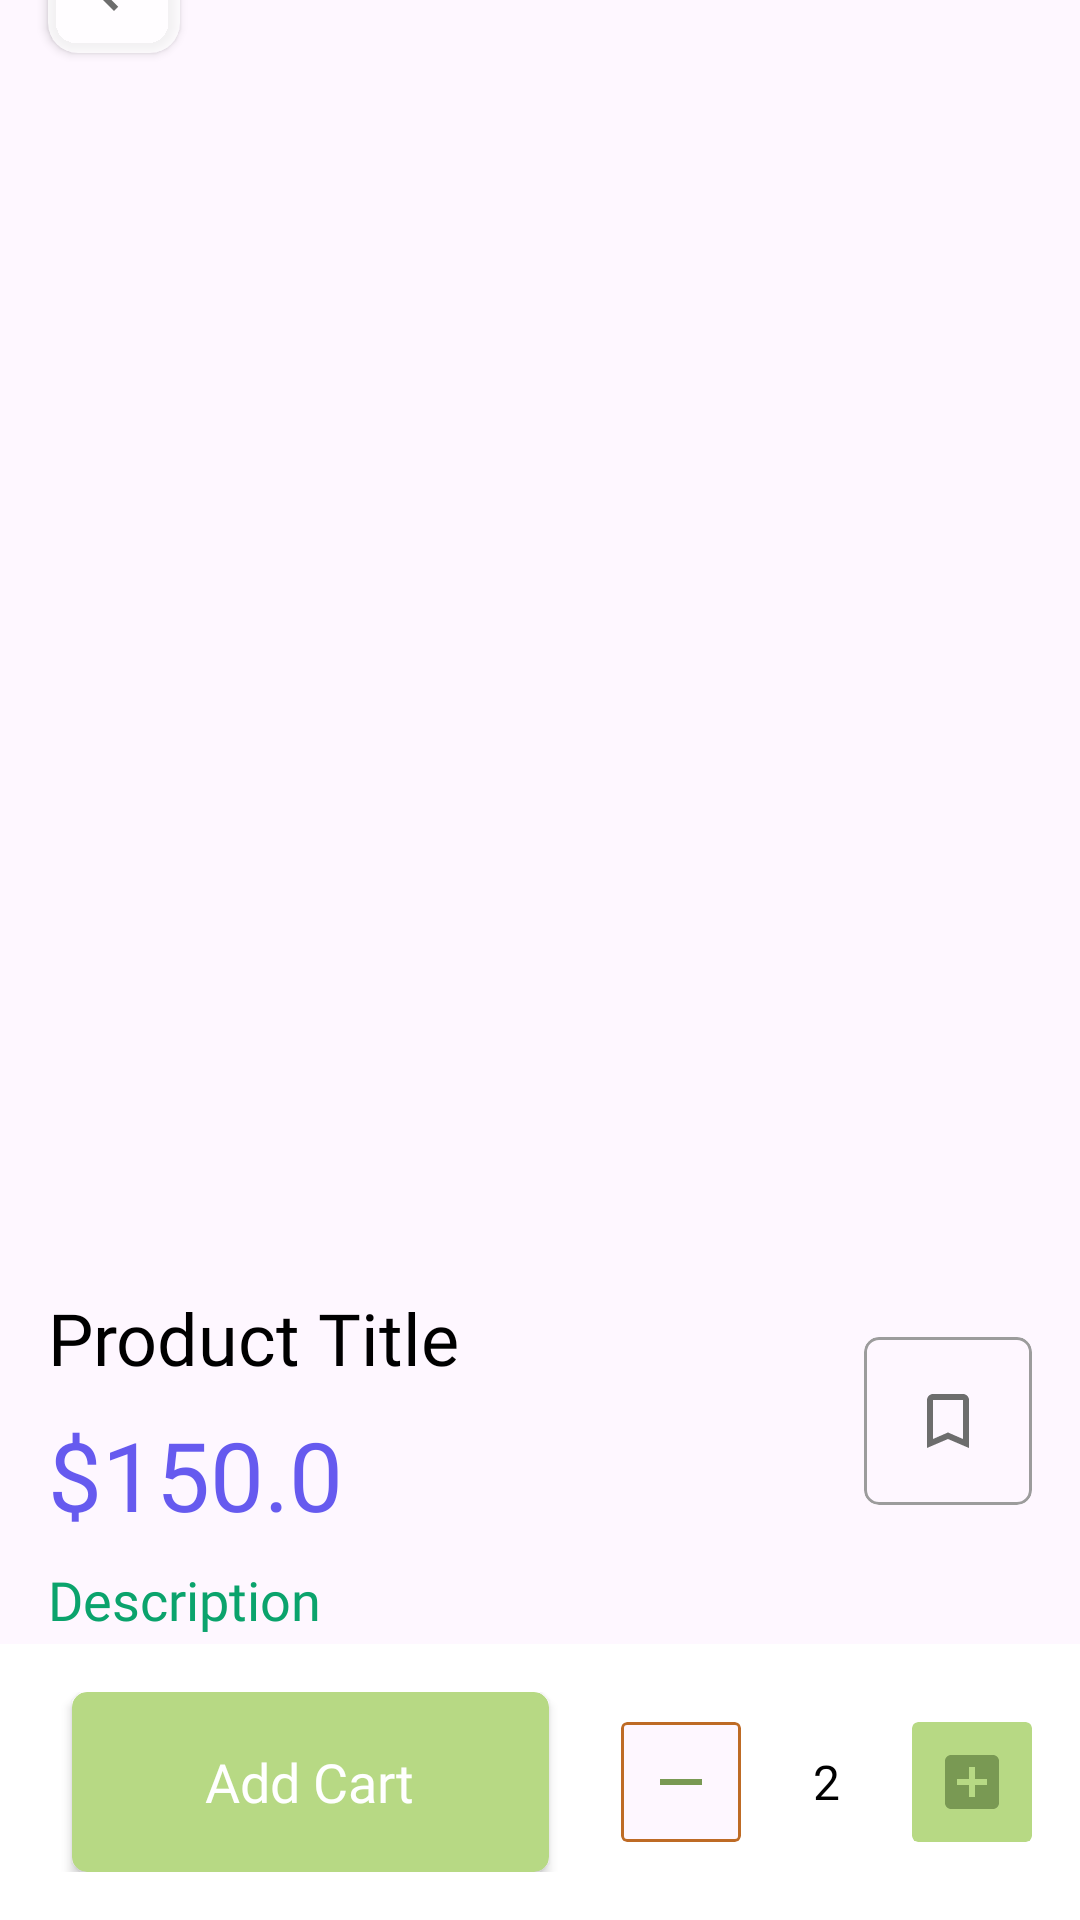

Locate icon controls on the screen. Image size 1080 × 1920, boxes as bbox=(x1, y1, x2, y2).
add box: bbox=(912, 1722, 1032, 1842)
bookmark border: bbox=(927, 1394, 969, 1448)
remove: bbox=(621, 1722, 741, 1842)
